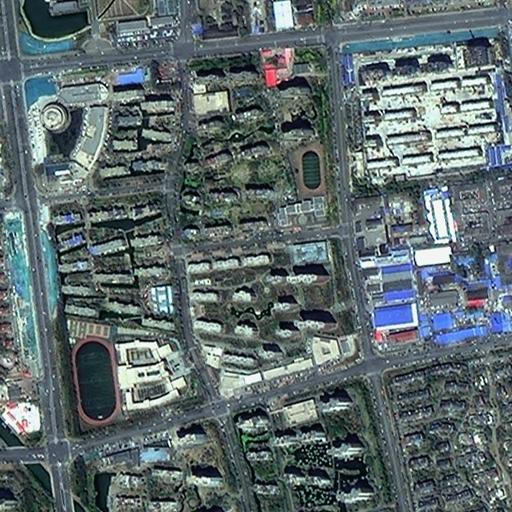school: (62, 314, 189, 432), (276, 142, 333, 233)
